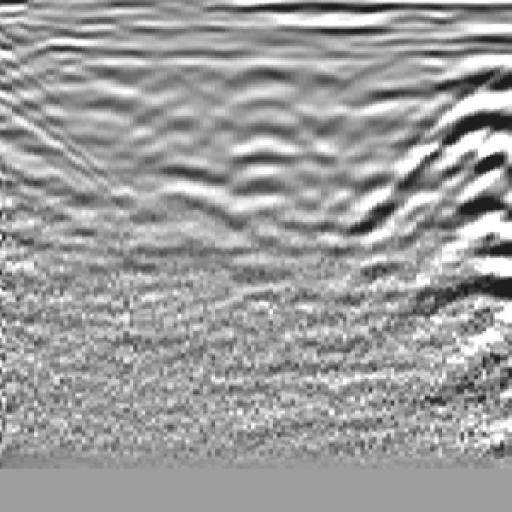metalic: (123, 37, 307, 267)
nonmetalic: (394, 42, 512, 281)
